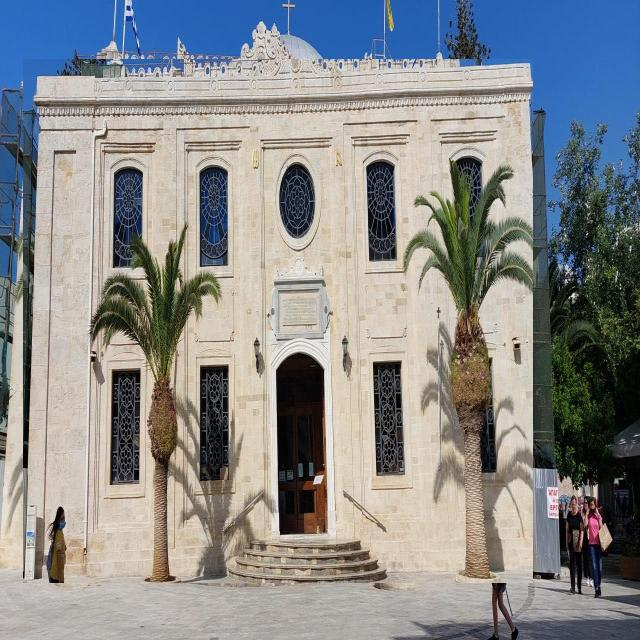Agios Titos: (24, 60, 534, 584)
